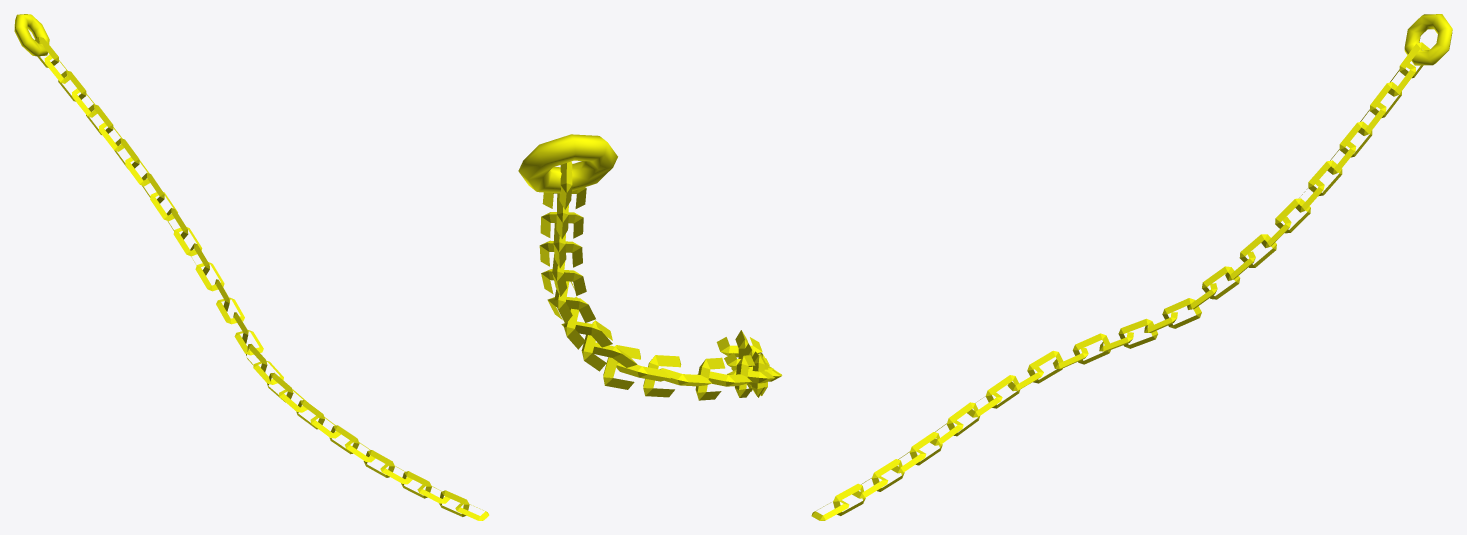
File: flame_chain_008.glb
The picture shows the model from 3 angles, left to right: view 1: azimuth 30°, elevation 25°; view 2: azimuth 150°, elevation 25°; view 3: azimuth 270°, elevation 25°; orthographic projection. The views are drawn at different scales.
Visible parts, largest first — view 1: flame_chain_008; view 2: flame_chain_008; view 3: flame_chain_008.
Boxes of the visible parts, x1,y1,x2,y2 form: flame_chain_008: [14, 14, 489, 520]; flame_chain_008: [518, 134, 782, 400]; flame_chain_008: [811, 14, 1452, 520].
Bounding box in the file's own units: 8.31 × 13.47 × 19.47.
1 material, 1 textured.
